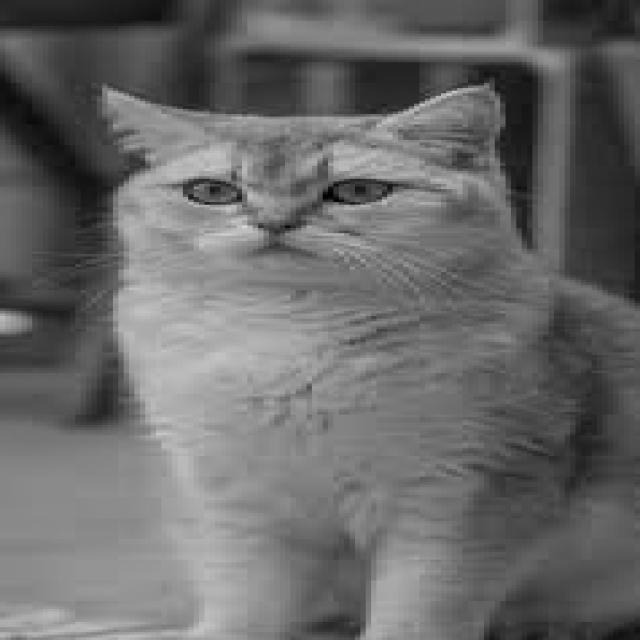british: (71, 68, 608, 294)
